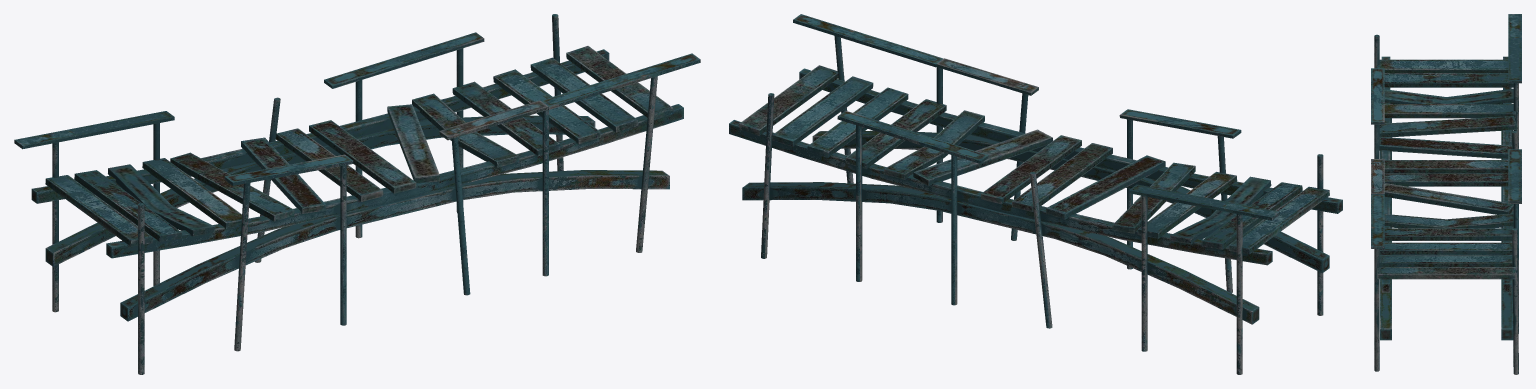
The model's file is wooden-bridge.glb.
The picture shows the model from 3 angles, left to right: view 1: azimuth 30°, elevation 25°; view 2: azimuth 150°, elevation 25°; view 3: azimuth 270°, elevation 25°; orthographic projection. The views are drawn at different scales.
Visible parts, largest first — view 1: Planks_low__0, Base_down_low__0, Cylinder_low__0, Base_up_low__0, Plane_low__0; view 2: Planks_low__0, Base_down_low__0, Cylinder_low__0, Base_up_low__0, Plane_low__0; view 3: Planks_low__0, Plane_low__0, Cylinder_low__0, Base_down_low__0, Base_up_low__0.
Boxes of the visible parts, x1=… form: Planks_low__0: x1=45, y1=46, x2=673, y2=246; Base_down_low__0: x1=45, y1=115, x2=669, y2=321; Cylinder_low__0: x1=52, y1=14, x2=657, y2=374; Base_up_low__0: x1=31, y1=49, x2=683, y2=258; Plane_low__0: x1=14, y1=32, x2=700, y2=185; Planks_low__0: x1=738, y1=65, x2=1329, y2=254; Base_down_low__0: x1=742, y1=130, x2=1329, y2=324; Cylinder_low__0: x1=761, y1=36, x2=1323, y2=374; Base_up_low__0: x1=729, y1=68, x2=1342, y2=265; Plane_low__0: x1=793, y1=14, x2=1279, y2=220; Planks_low__0: x1=1377, y1=59, x2=1516, y2=279; Plane_low__0: x1=1371, y1=14, x2=1521, y2=248; Cylinder_low__0: x1=1374, y1=34, x2=1518, y2=374; Base_down_low__0: x1=1380, y1=118, x2=1513, y2=340; Base_up_low__0: x1=1381, y1=56, x2=1511, y2=292.
Bounding box in the file's own units: 11.73 × 3.42 × 3.18.
Materials: 1 (1 with a texture image).
